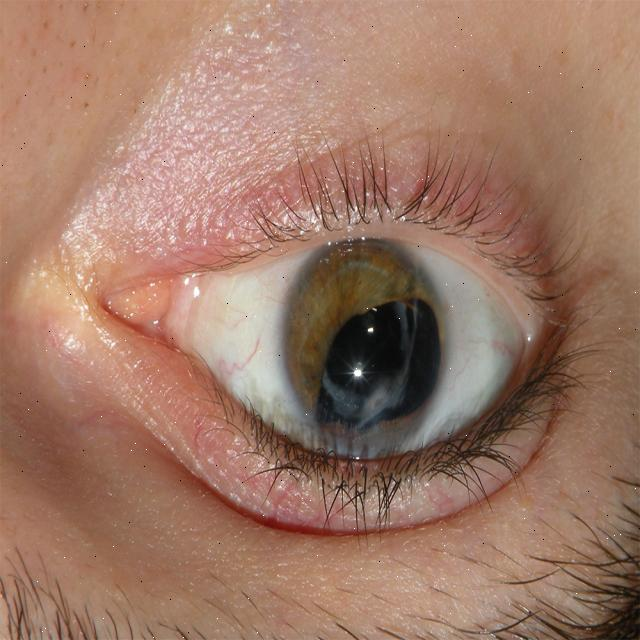Normal: (280, 230, 444, 450)
